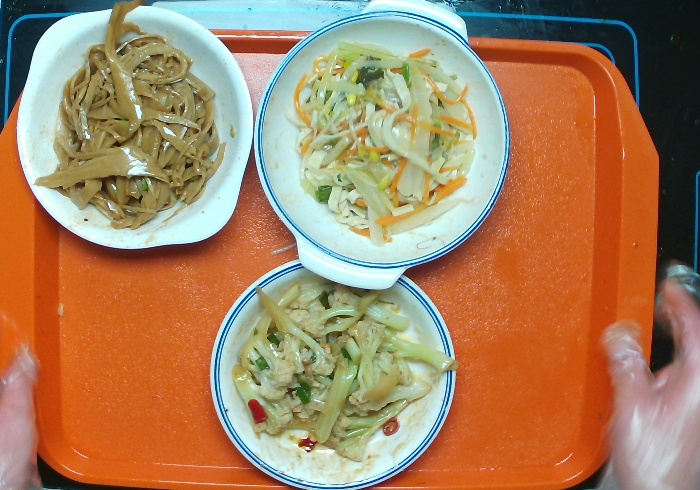HZYJPL-Dai_Er_Bai_Yuan_Wan: (16, 6, 255, 253)
HZYJPL-Lan_Bian_Dai_Er_Wan: (252, 1, 511, 291)
HZYJPL-Lan_Bian_Yuan_Die: (211, 250, 457, 490)
